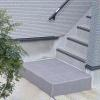stairs: (55, 6, 95, 72)
